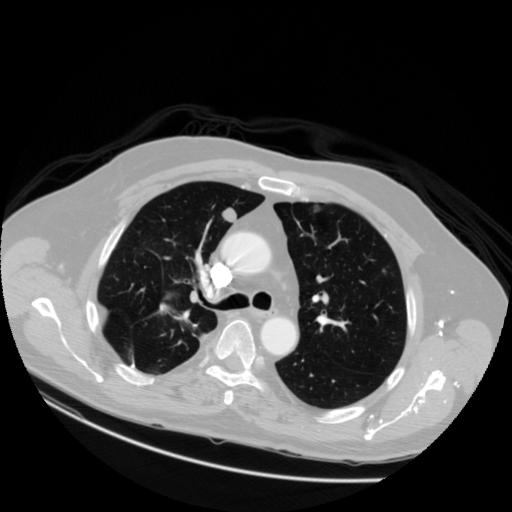nodule: (218, 203, 241, 226)
